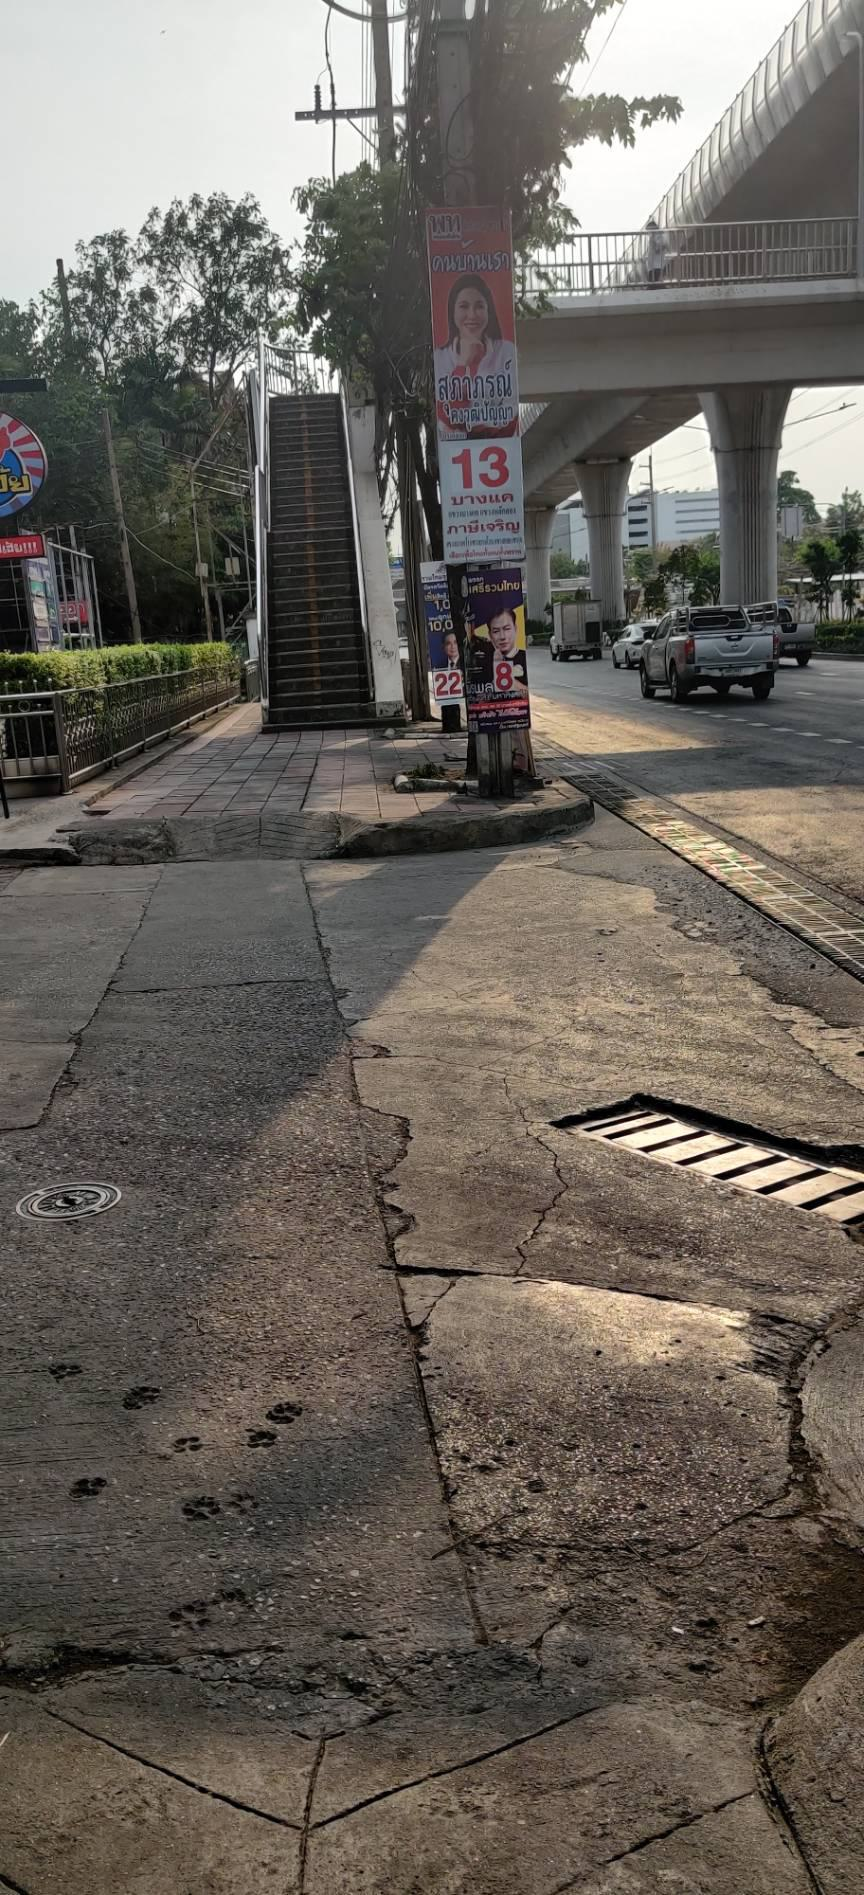Banner: (417, 201, 520, 433), (450, 568, 532, 725)
